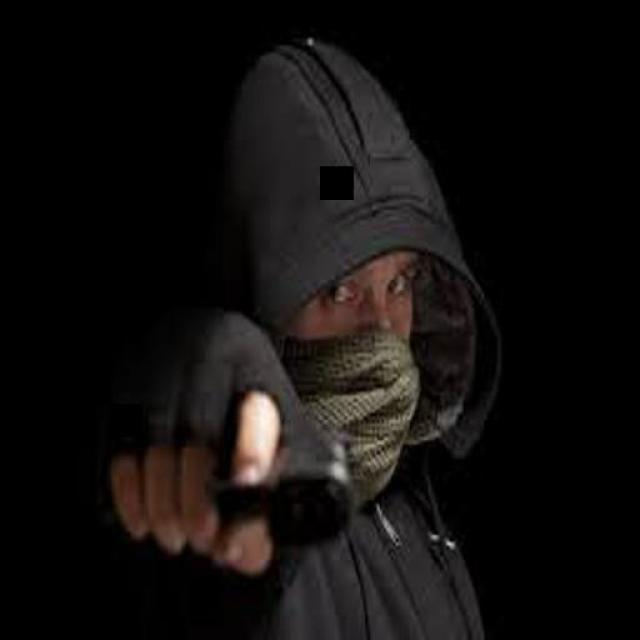gun: (128, 408, 354, 536)
